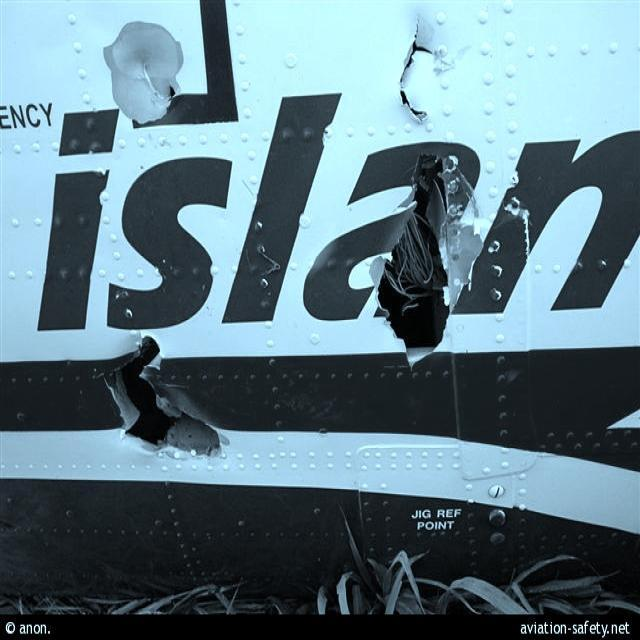Crack: (374, 147, 459, 366), (102, 338, 228, 463), (394, 6, 440, 123), (149, 74, 183, 110)
